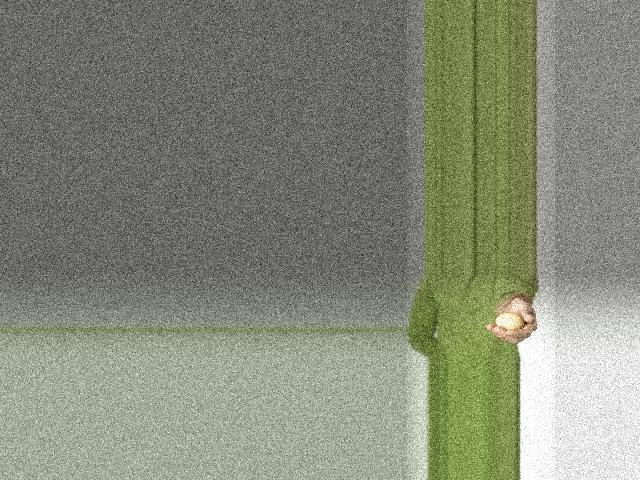egg: (494, 313, 523, 330)
